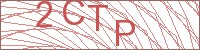2: (35, 1, 53, 28)
C: (62, 1, 85, 26)
P: (114, 19, 137, 46)
T: (87, 4, 109, 32)
